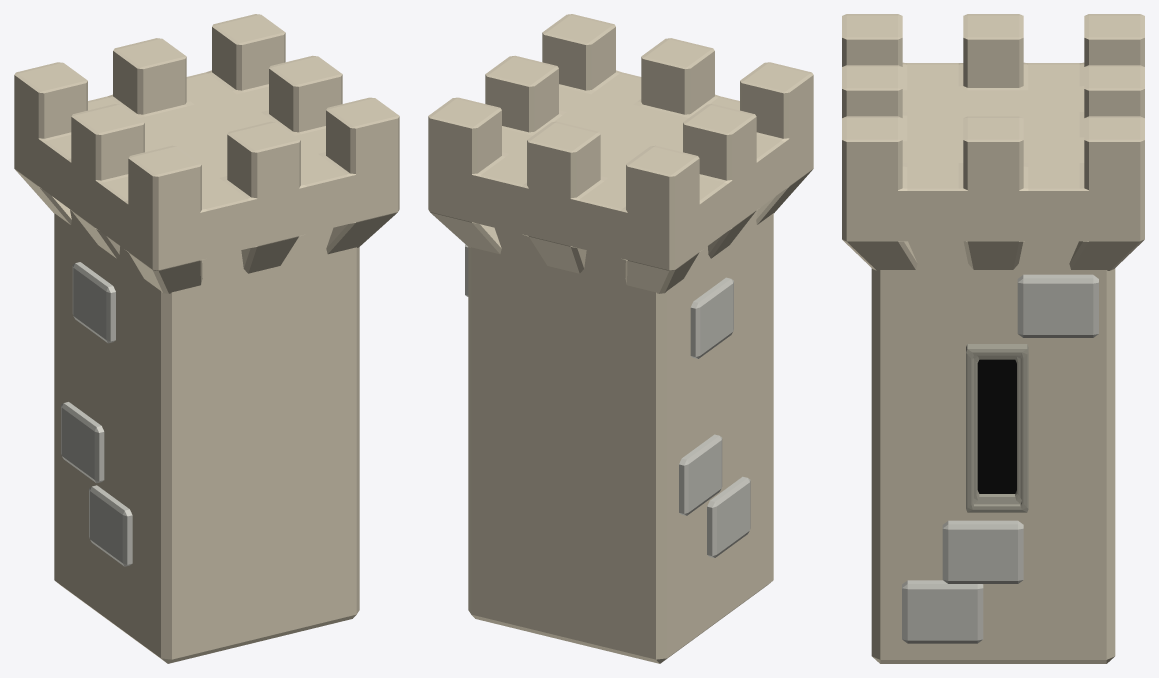
File: SmallTower.fbx
3 views of the same model, side by side, from view 1: azimuth 30°, elevation 25°; view 2: azimuth 150°, elevation 25°; view 3: azimuth 270°, elevation 25° (orthographic). The views are drawn at different scales.
Parts seen in each view (by area): view 1: SmallTower.002, SmallTop.002, Stone.032, Stone.034, Stone.033; view 2: SmallTower.002, SmallTop.002, Stone.032, Stone.034, Stone.033; view 3: SmallTower.002, SmallTop.002, Window.008, Stone.031, Stone.030, Stone.029.
Boxes of the visible parts, x1,y1,x2,y2 form: SmallTower.002: (54,210,359,663); SmallTop.002: (14,14,399,293); Stone.032: (89,485,132,566); Stone.034: (72,262,115,343); Stone.033: (61,402,104,483); SmallTower.002: (468,210,773,663); SmallTop.002: (428,14,813,293); Stone.032: (707,476,750,557); Stone.034: (690,277,733,358); Stone.033: (679,434,722,515); SmallTower.002: (871,241,1115,663); SmallTop.002: (842,14,1144,270); Window.008: (966,344,1028,512); Stone.031: (1017,274,1098,337); Stone.030: (942,520,1023,583); Stone.029: (902,580,983,643).
Bounding box in the file's own units: 411 × 806 × 411.
